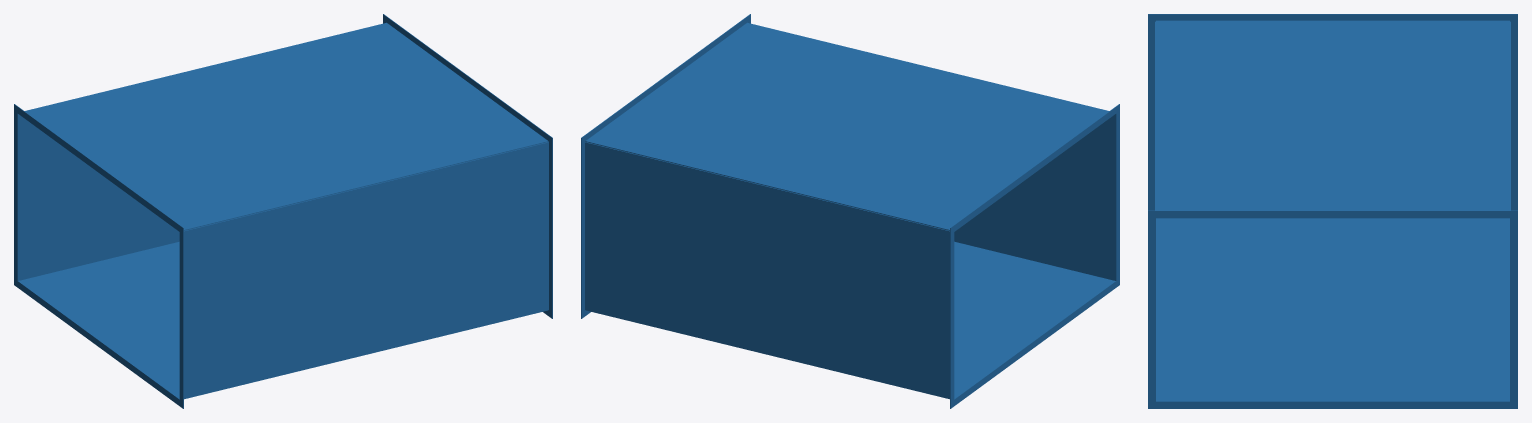
Rendered from Phase07.fbx.
3 renders of one model, left to right at view 1: azimuth 30°, elevation 25°; view 2: azimuth 150°, elevation 25°; view 3: azimuth 270°, elevation 25°, orthographic. The views are drawn at different scales.
Visible parts, largest first — view 1: Стальной лист (ГОСТ 19903-74) Балки:Лист 10х2000:258729, Стальной лист (ГОСТ 19903-74) Балки:Лист 10х3500:258666, Стальной лист (ГОСТ 19903-74) Балки:Лист 10х2000:258878, Стальной лист (ГОСТ 19903-74) Балки:Лист 10х3500:258465, Стальной лист (ГОСТ 19903-74) Балки:Лист 8х80х80 ГОСТ 19903- (×6); view 2: Стальной лист (ГОСТ 19903-74) Балки:Лист 10х2000:258878, Стальной лист (ГОСТ 19903-74) Балки:Лист 10х3500:258666, Стальной лист (ГОСТ 19903-74) Балки:Лист 10х2000:258729, Стальной лист (ГОСТ 19903-74) Балки:Лист 10х3500:258465, Стальной лист (ГОСТ 19903-74) Балки:Лист 8х80х80 ГОСТ 19903- (×6); view 3: Стальной лист (ГОСТ 19903-74) Балки:Лист 10х3500:258666, Стальной лист (ГОСТ 19903-74) Балки:Лист 10х3500:258465, Стальной лист (ГОСТ 19903-74) Балки:Лист 8х80х80 ГОСТ 19903- (×7).
Part boxes in pixels (left/top/right/bottom): Стальной лист (ГОСТ 19903-74) Балки:Лист 10х2000:258729: left=184, top=142, right=548, bottom=398; Стальной лист (ГОСТ 19903-74) Балки:Лист 10х3500:258666: left=25, top=22, right=548, bottom=230; Стальной лист (ГОСТ 19903-74) Балки:Лист 10х2000:258878: left=18, top=114, right=179, bottom=280; Стальной лист (ГОСТ 19903-74) Балки:Лист 10х3500:258465: left=19, top=241, right=548, bottom=399; Стальной лист (ГОСТ 19903-74) Балки:Лист 8х80х80 ГОСТ 19903- (×6): left=14, top=14, right=552, bottom=408; Стальной лист (ГОСТ 19903-74) Балки:Лист 10х2000:258878: left=585, top=142, right=949, bottom=398; Стальной лист (ГОСТ 19903-74) Балки:Лист 10х3500:258666: left=585, top=22, right=1108, bottom=230; Стальной лист (ГОСТ 19903-74) Балки:Лист 10х2000:258729: left=954, top=114, right=1115, bottom=280; Стальной лист (ГОСТ 19903-74) Балки:Лист 10х3500:258465: left=585, top=241, right=1114, bottom=399; Стальной лист (ГОСТ 19903-74) Балки:Лист 8х80х80 ГОСТ 19903- (×6): left=581, top=14, right=1119, bottom=408; Стальной лист (ГОСТ 19903-74) Балки:Лист 10х3500:258666: left=1156, top=20, right=1509, bottom=210; Стальной лист (ГОСТ 19903-74) Балки:Лист 10х3500:258465: left=1156, top=218, right=1509, bottom=401; Стальной лист (ГОСТ 19903-74) Балки:Лист 8х80х80 ГОСТ 19903- (×7): left=1148, top=14, right=1517, bottom=408.
Size of the model in its own units: 4616 by 3660 by 2160.
